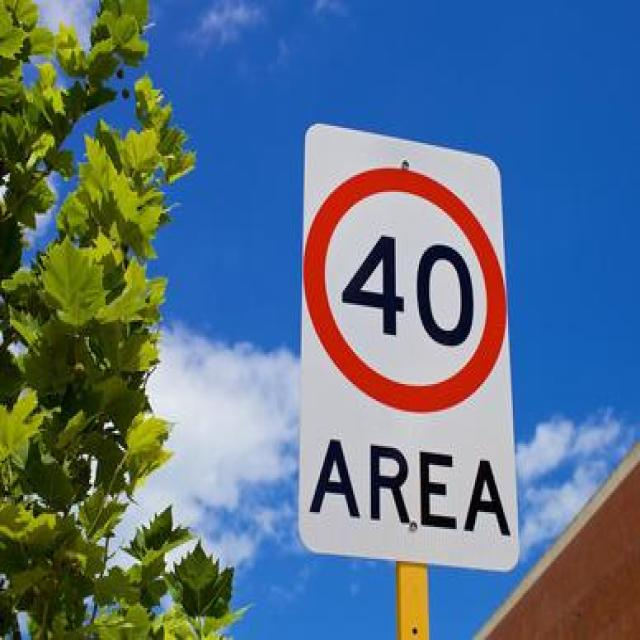speed limit 40: (305, 165, 505, 412)
